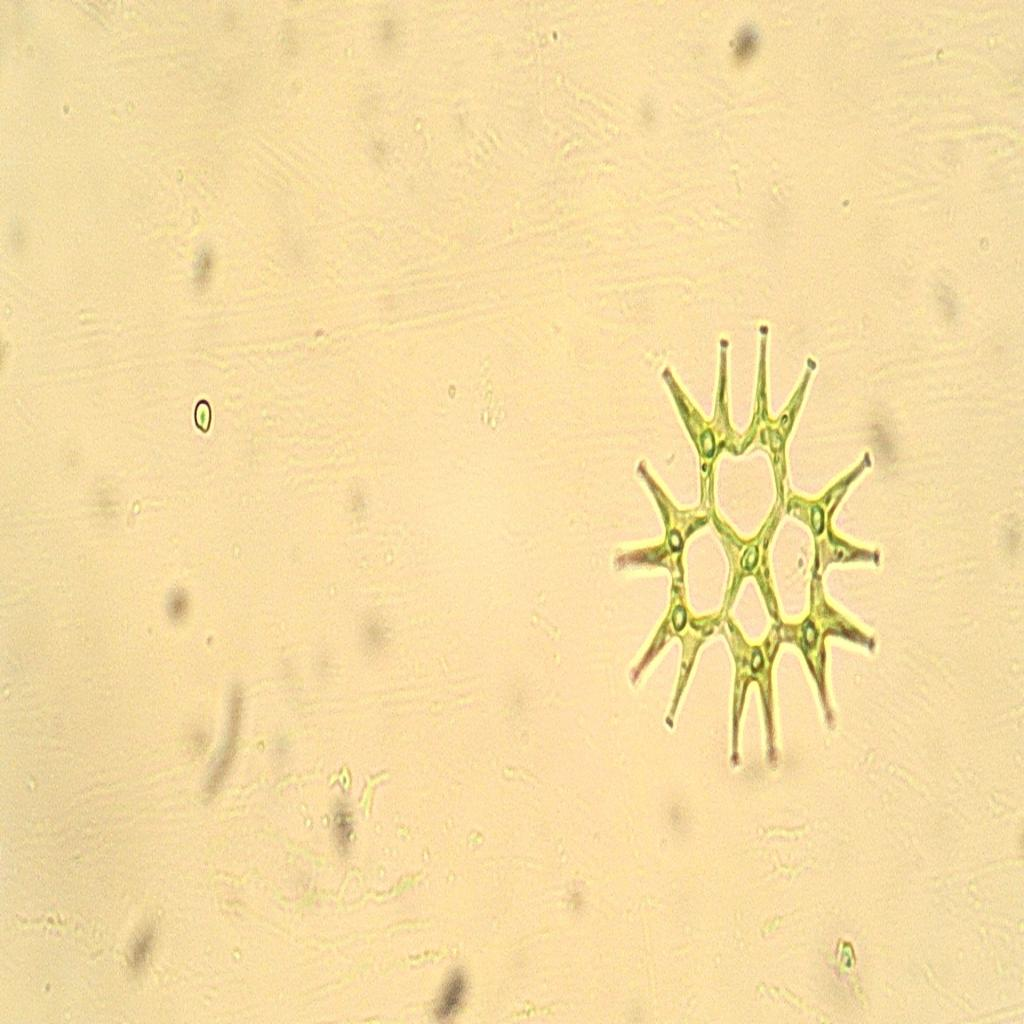Pediastrum_CTH: (608, 317, 892, 803)
